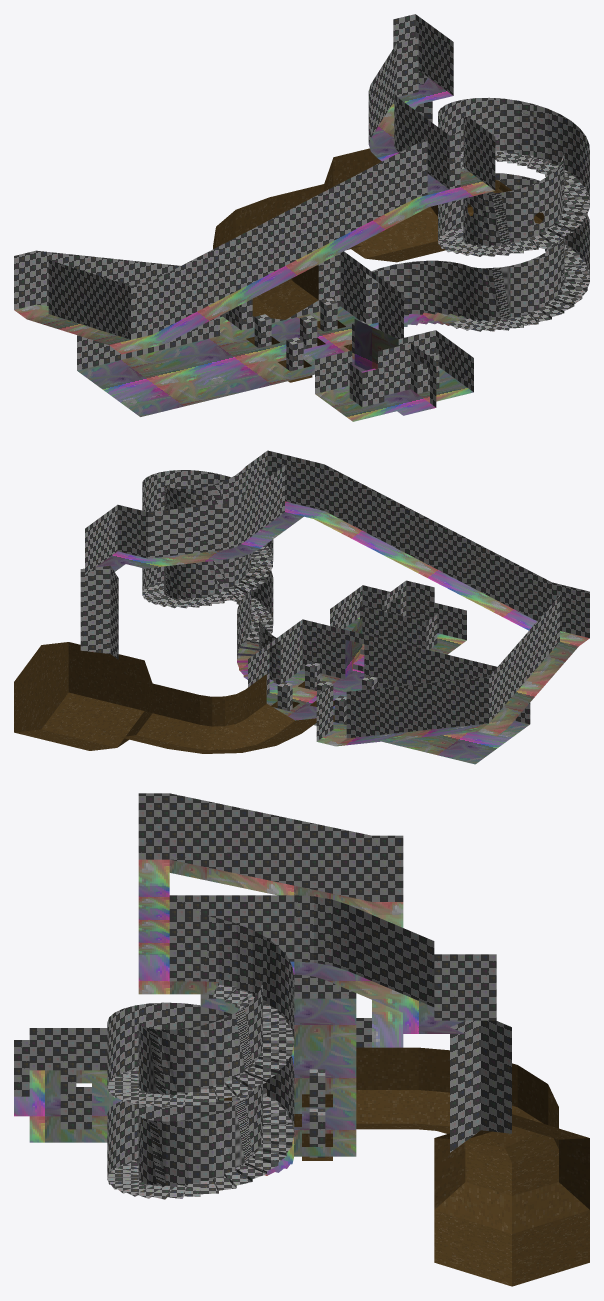
File: level_buddy.glb
3 views of the same model, one above another, from view 1: azimuth 30°, elevation 25°; view 2: azimuth 150°, elevation 25°; view 3: azimuth 270°, elevation 25° (orthographic). The views are drawn at different scales.
Parts seen in each view (by area): view 1: Map; view 2: Map; view 3: Map.
Part boxes in pixels (box(x1,y1,x2,y2)): Map: box(14, 14, 589, 421); Map: box(14, 450, 589, 764); Map: box(14, 793, 589, 1286).
Bounding box in the file's own units: 44 × 20.75 × 37.
3 materials, 3 textured.
